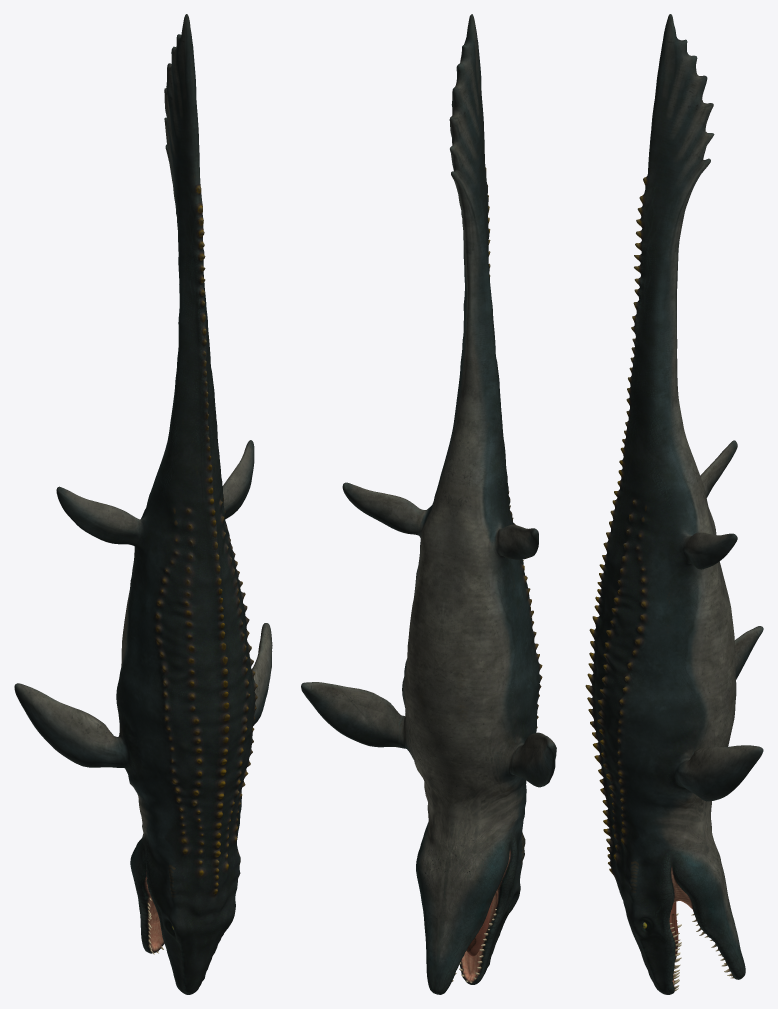
The model's file is canglong.fbx.
The picture shows the model from 3 angles, left to right: view 1: azimuth 30°, elevation 25°; view 2: azimuth 150°, elevation 25°; view 3: azimuth 270°, elevation 25°; orthographic projection.
Parts seen in each view (by area): view 1: body; view 2: body; view 3: body.
Part boxes in pixels (left/top/right/bottom): body: left=14, top=14, right=272, bottom=994; body: left=301, top=14, right=556, bottom=994; body: left=585, top=14, right=763, bottom=994.
Bounding box in the file's own units: 24.31 × 89.44 × 14.72.
Materials: 1 (1 with a texture image).
